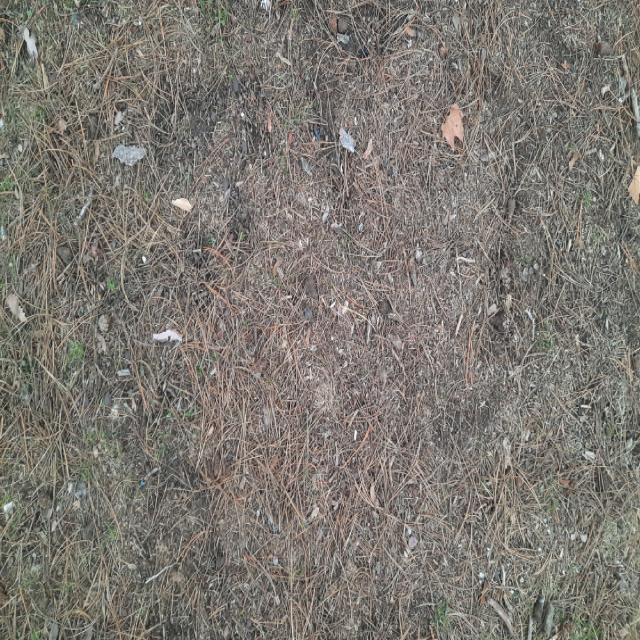white-sand: (0, 0, 639, 638)
